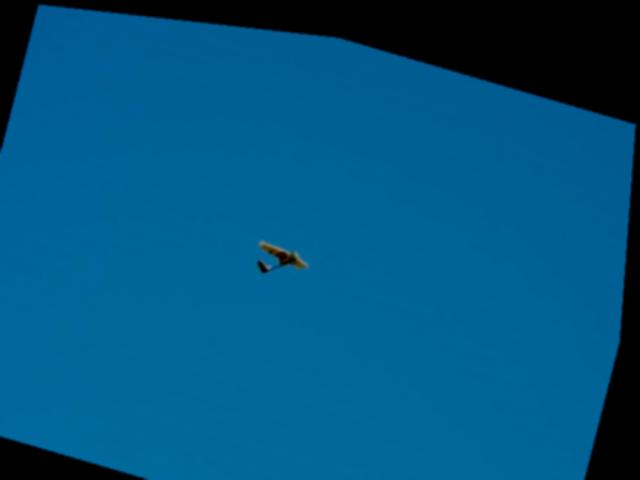iha: (251, 223, 322, 282)
